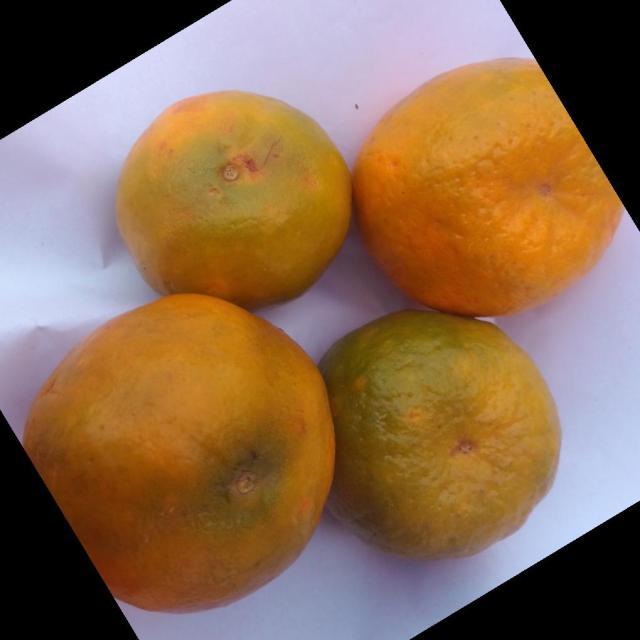fresh orange: (21, 291, 336, 614), (351, 55, 623, 318), (318, 308, 562, 560), (114, 88, 352, 309)
